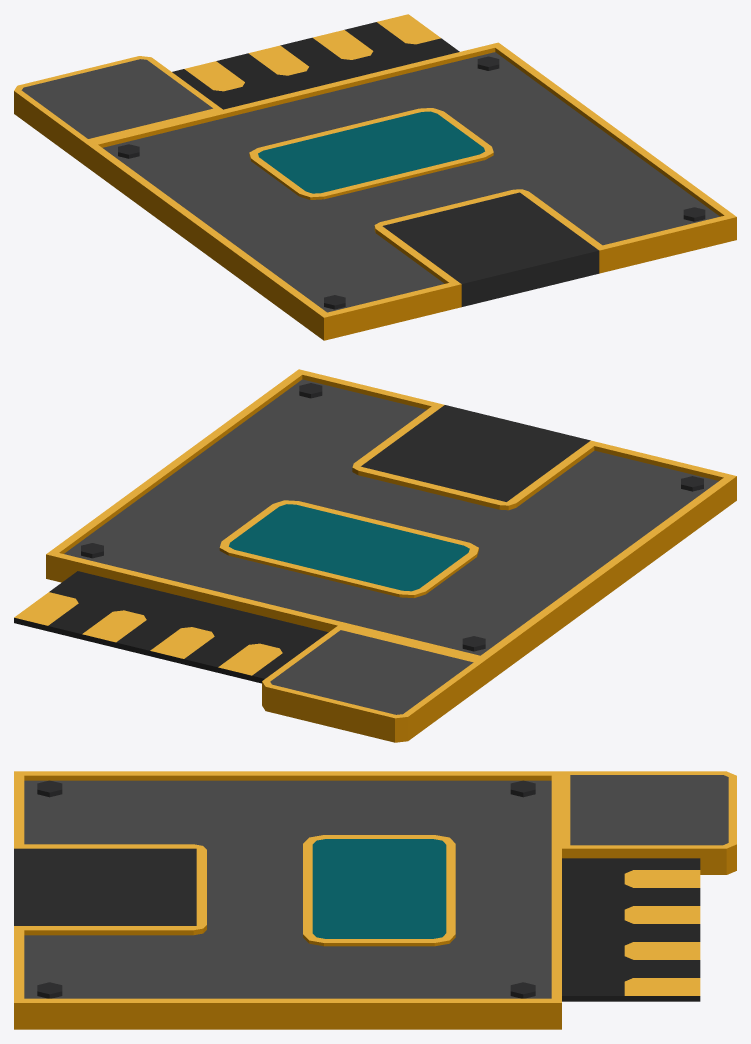
The model's file is Chip_02.glb.
The picture shows the model from 3 angles, top to bottom: view 1: azimuth 30°, elevation 25°; view 2: azimuth 150°, elevation 25°; view 3: azimuth 270°, elevation 25°; orthographic projection. The views are drawn at different scales.
Visible parts, largest first — view 1: Chip_02; view 2: Chip_02; view 3: Chip_02.
Boxes of the visible parts, bbox=[...] form: Chip_02: bbox=[14, 14, 736, 340]; Chip_02: bbox=[14, 369, 736, 742]; Chip_02: bbox=[14, 771, 736, 1029].
Size of what is drawn, in the model's own units: 0.1623 by 0.00889 by 0.2141.
1 material, 1 textured.
